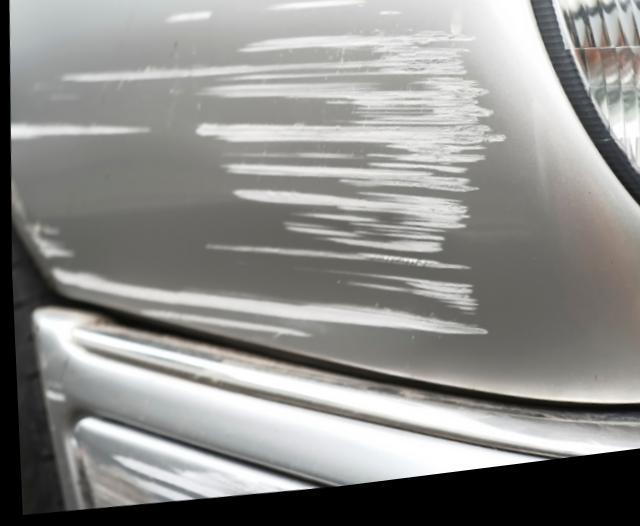scratch: (9, 1, 502, 360)
